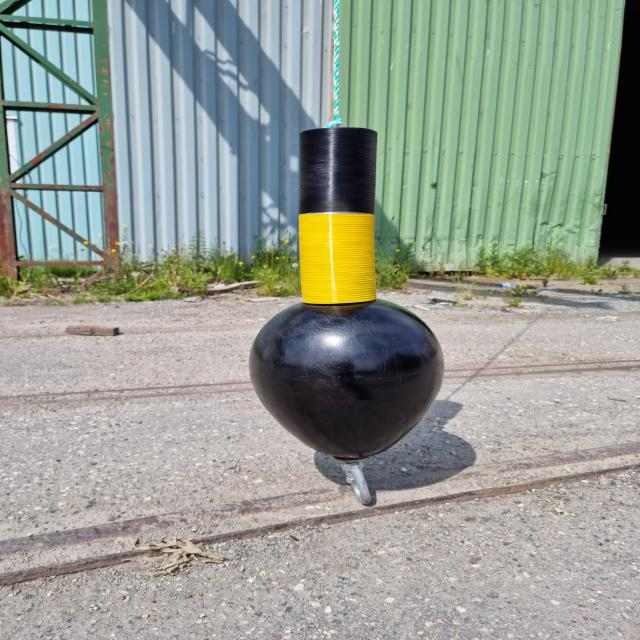east: (247, 127, 447, 460)
